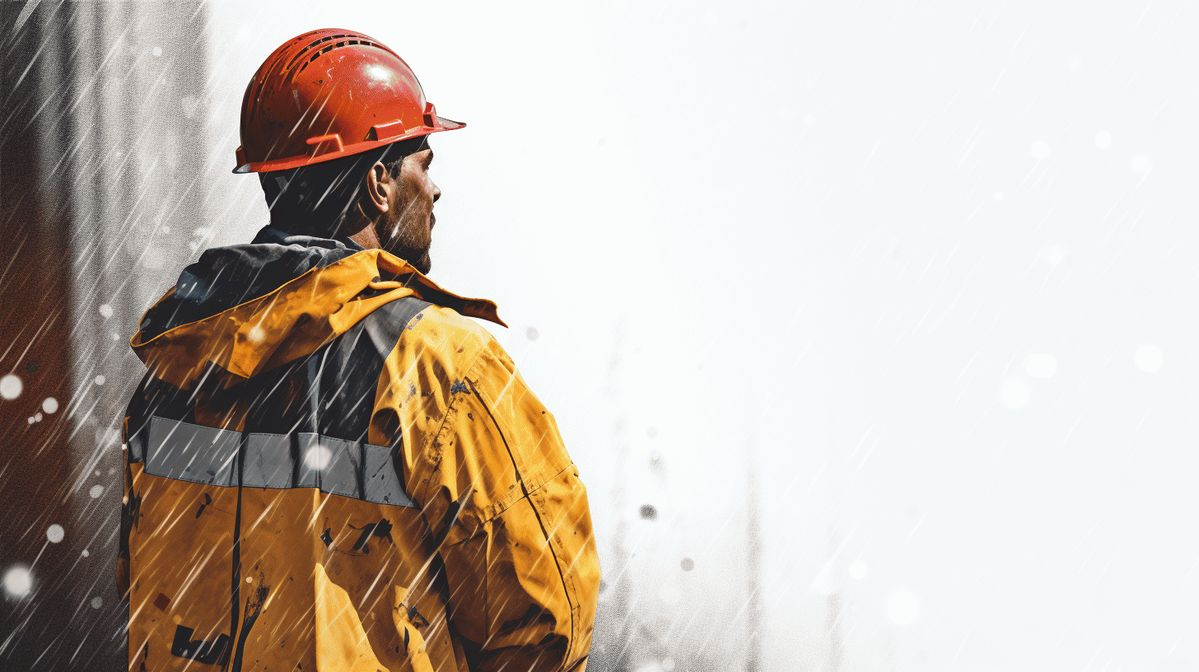hardhat: (219, 23, 442, 170)
person: (105, 12, 627, 669)
safety_vest: (124, 287, 615, 662)
